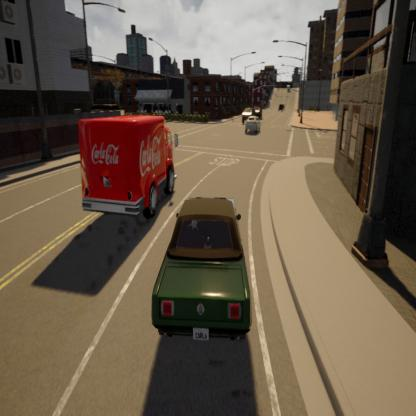Cars: (153, 199, 252, 346), (78, 116, 175, 220), (244, 114, 260, 134), (241, 107, 252, 122), (276, 101, 285, 114), (255, 107, 263, 117), (284, 85, 292, 94)
